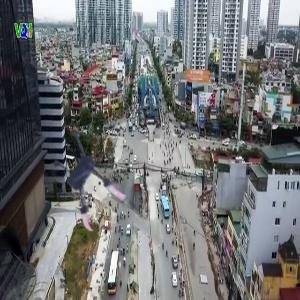drone: (39, 128, 143, 232)
